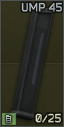HK UMP .45 ACP 25-round magazine: (0, 0, 64, 127)
